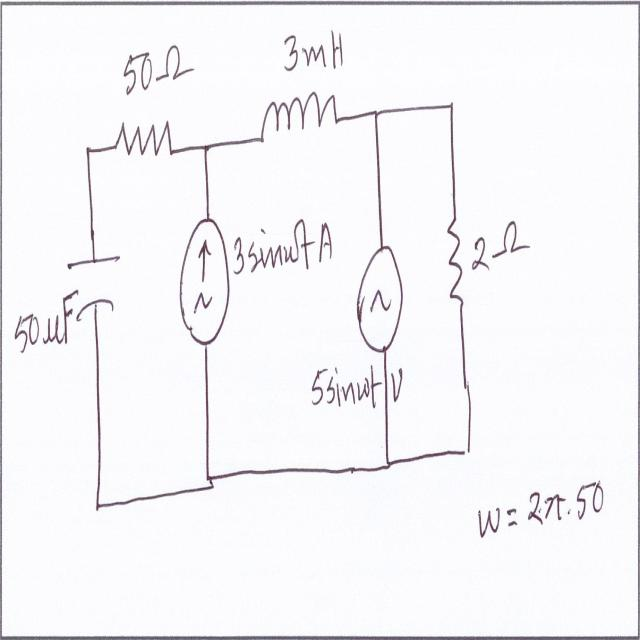ac_current: (355, 242, 409, 348)
capacitor: (67, 244, 126, 328)
current_source: (175, 212, 231, 350)
inductor: (255, 88, 340, 154)
resistor: (109, 108, 178, 172), (443, 202, 469, 320)
